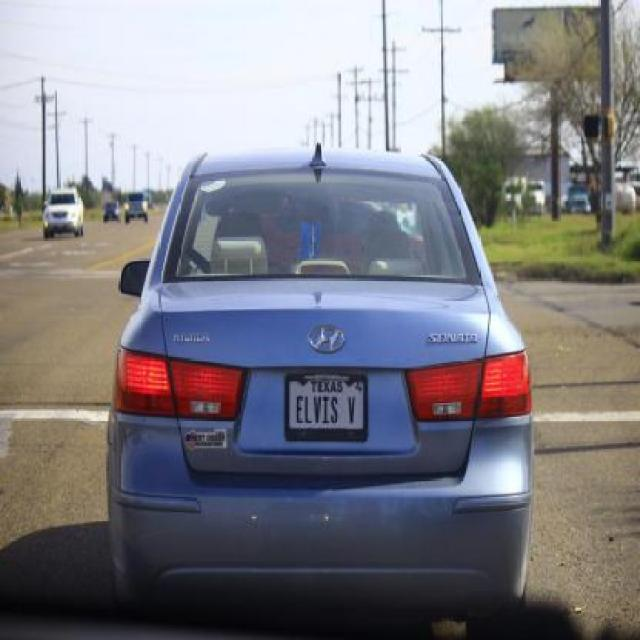License-Plates: (284, 369, 368, 442)
